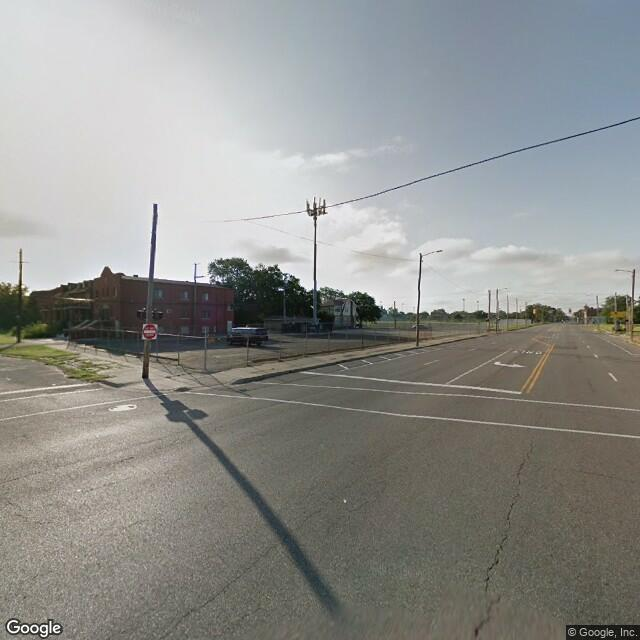litter: (48, 381, 58, 387), (344, 498, 348, 503)
